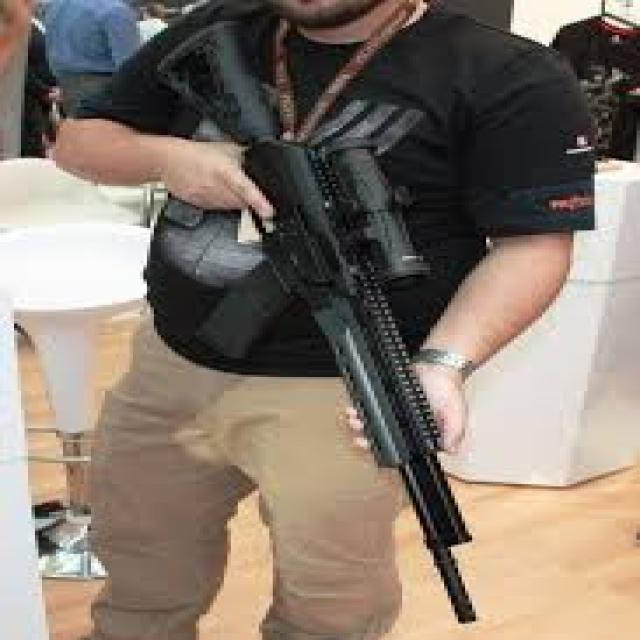gun: (156, 42, 502, 580)
